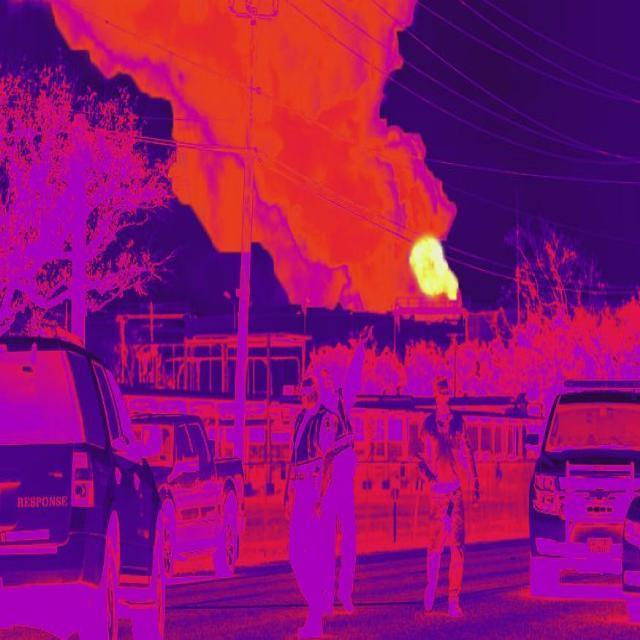fire: (409, 229, 465, 303)
